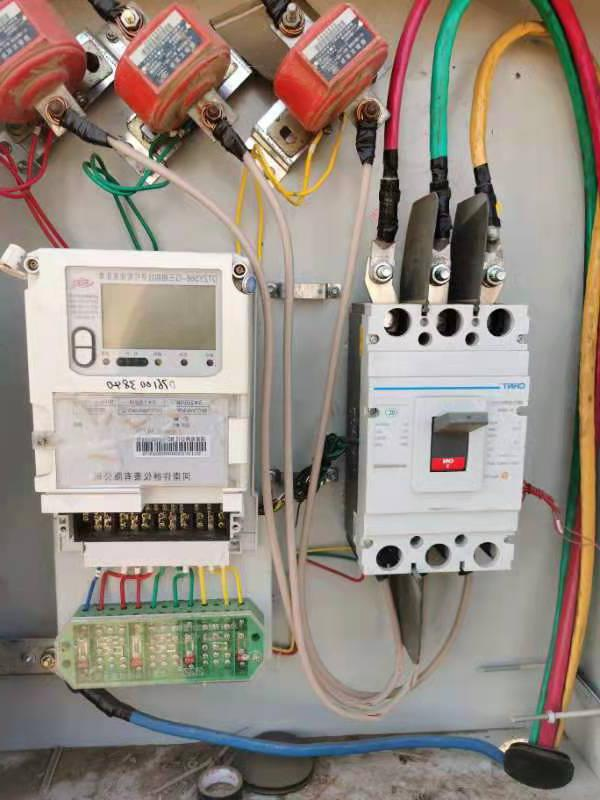digital: (25, 249, 248, 510)
